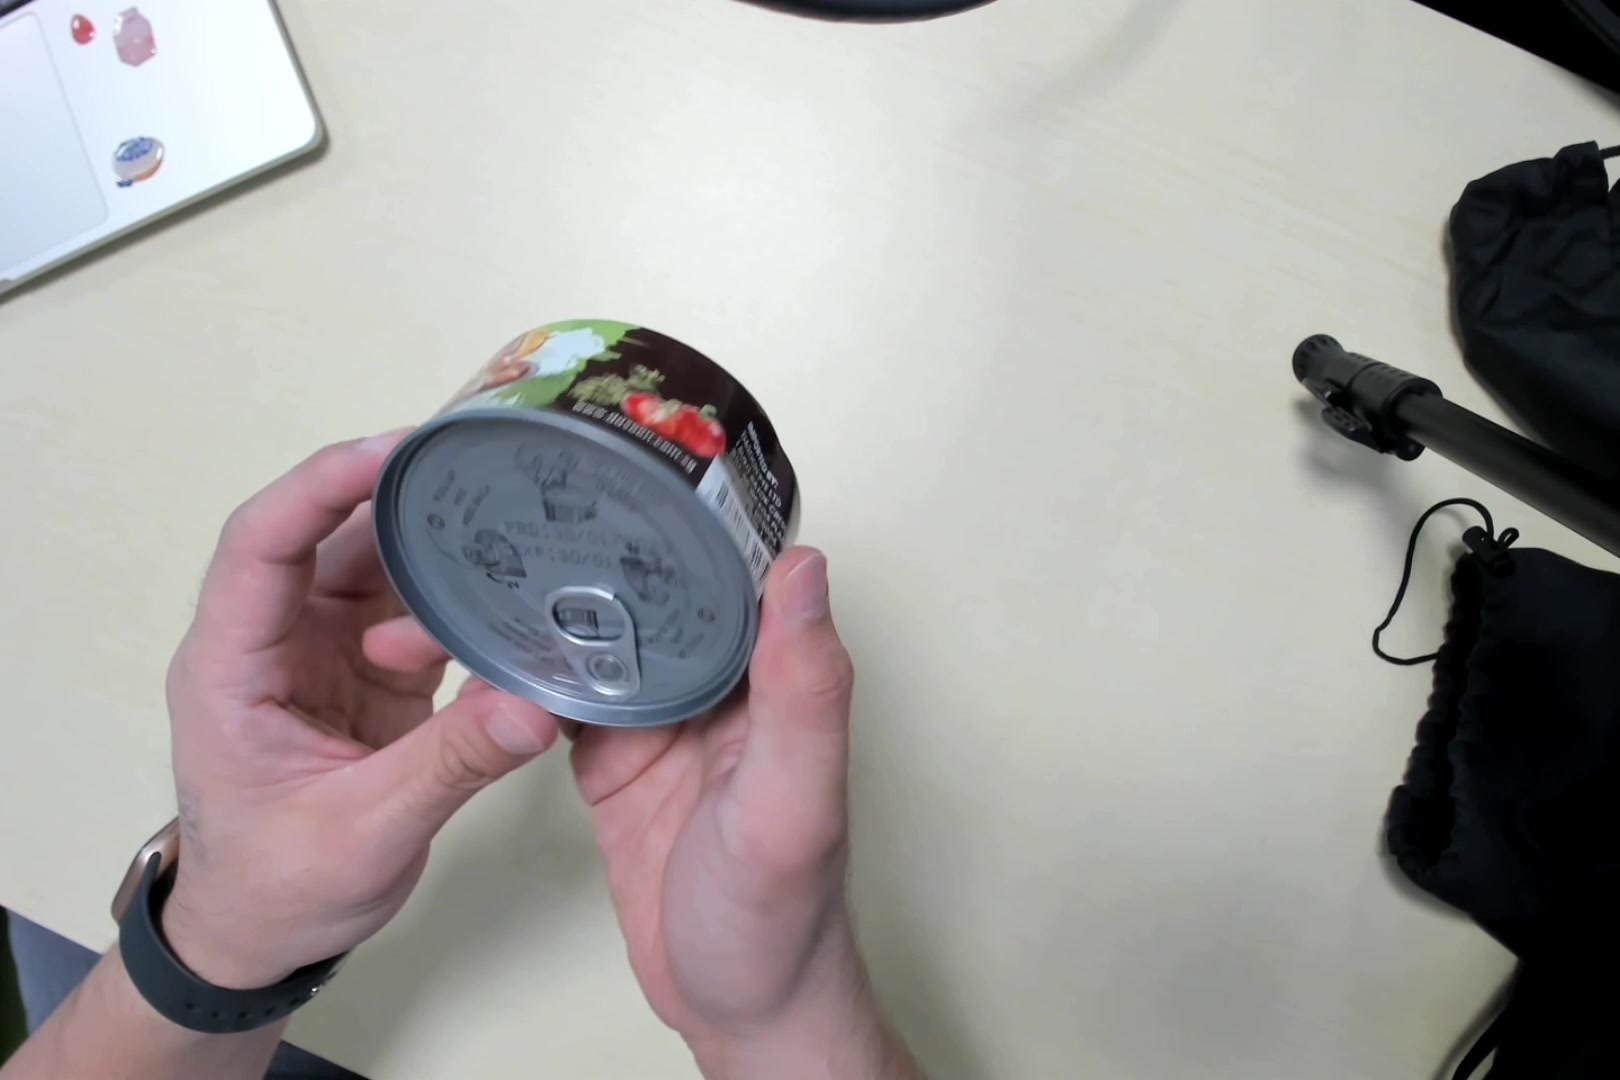CannedPorkLunchronMeat_100-199g_NonHalal_NonHealthy: (385, 315, 798, 720)
